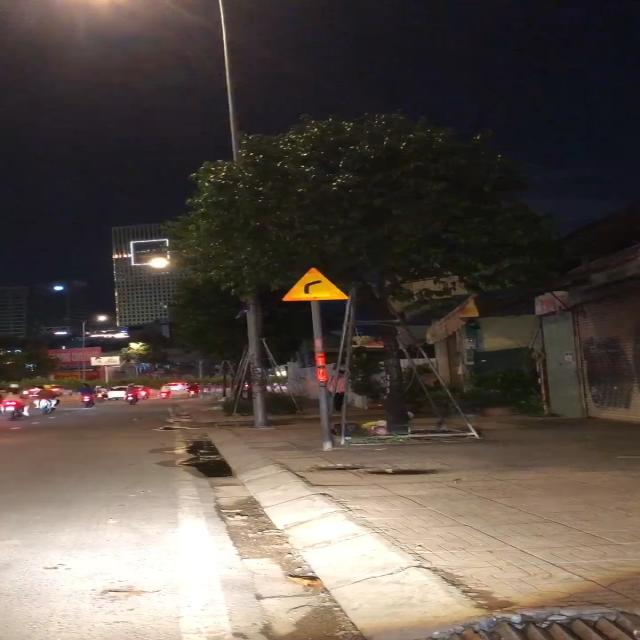Bien bao cho ngoat nguy hiem: (272, 262, 360, 304)
